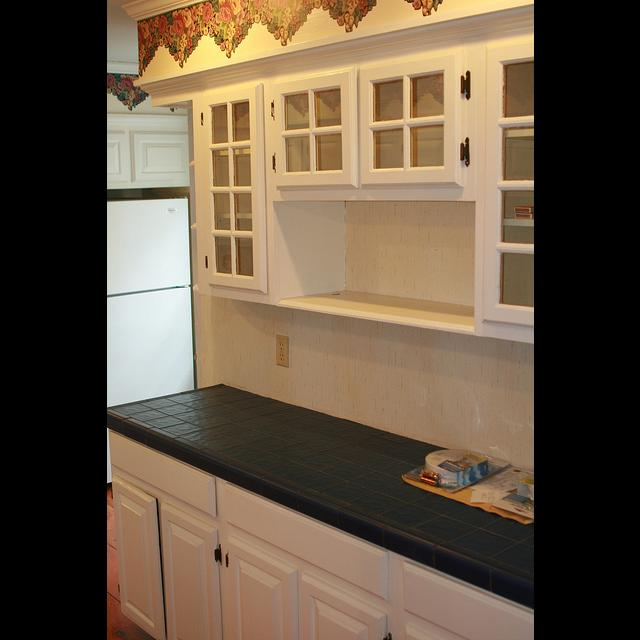Refrigerator: (106, 196, 193, 408)
